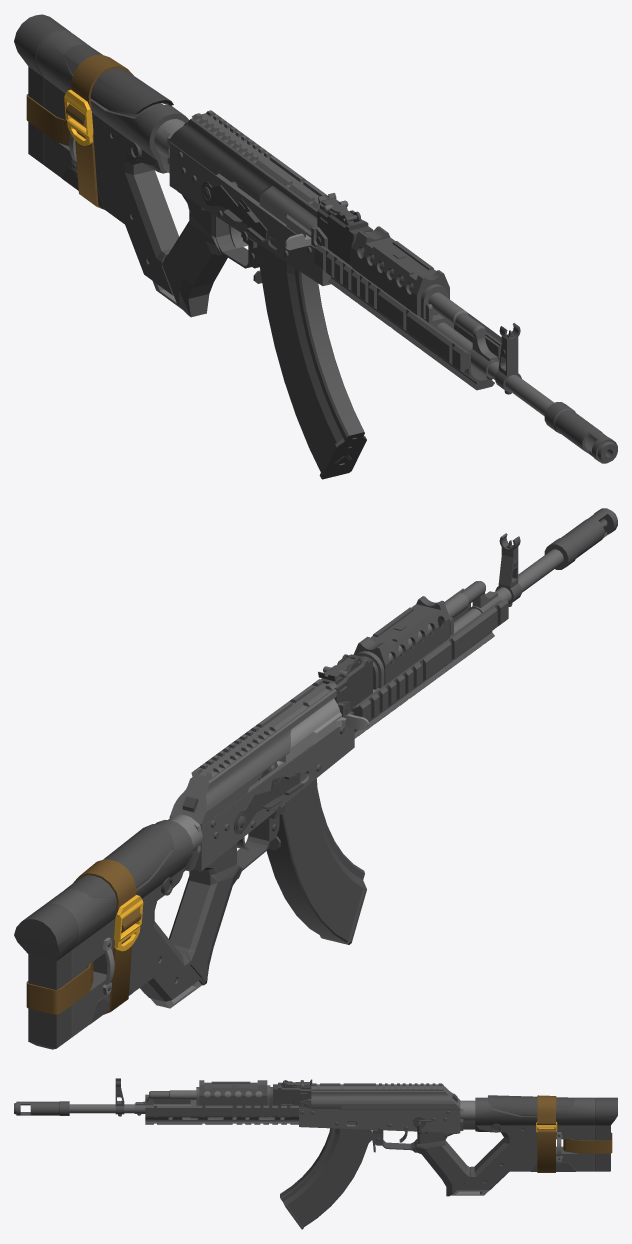
3 renders of one model, top to bottom at view 1: azimuth 30°, elevation 25°; view 2: azimuth 150°, elevation 25°; view 3: azimuth 270°, elevation 25°, orthographic. The views are drawn at different scales.
Visible parts, largest first — view 1: 3DGeom~19, 3DGeom~11, 3DGeom~30, 3DGeom~32, 3DGeom~8, 3DGeom~33, 3DGeom~10, 3DGeom~38, 3DGeom~23, 3DGeom~27, 3DGeom~6, 3DGeom~29 (+10 smaller); view 2: 3DGeom~19, 3DGeom~11, 3DGeom~23, 3DGeom~30, 3DGeom~32, 3DGeom~8, 3DGeom~33, 3DGeom~10, 3DGeom~38, 3DGeom~27, 3DGeom~6, 3DGeom~40 (+9 smaller); view 3: 3DGeom~19, 3DGeom~11, 3DGeom~30, 3DGeom~32, 3DGeom~33, 3DGeom~8, 3DGeom~27, 3DGeom~23, 3DGeom~6, 3DGeom~10, 3DGeom~38, 3DGeom~4 (+7 smaller).
Part boxes in pixels (box(x1,y1,x2,y2)): 3DGeom~19: box(36, 30, 227, 317); 3DGeom~11: box(257, 243, 366, 479); 3DGeom~30: box(314, 244, 501, 390); 3DGeom~32: box(169, 142, 330, 285); 3DGeom~8: box(351, 226, 449, 316); 3DGeom~33: box(169, 119, 317, 222); 3DGeom~10: box(190, 110, 328, 211); 3DGeom~38: box(63, 44, 173, 114); 3DGeom~23: box(14, 14, 262, 283); 3DGeom~27: box(66, 54, 133, 209); 3DGeom~6: box(363, 250, 554, 416); 3DGeom~29: box(544, 402, 617, 463); 3DGeom~19: box(44, 820, 241, 1037); 3DGeom~11: box(258, 769, 366, 944); 3DGeom~23: box(14, 804, 284, 1049); 3DGeom~30: box(352, 588, 508, 738); 3DGeom~32: box(193, 726, 354, 871); 3DGeom~8: box(353, 596, 449, 689); 3DGeom~33: box(169, 691, 336, 826); 3DGeom~10: box(190, 679, 337, 783); 3DGeom~38: box(64, 824, 173, 897); 3DGeom~27: box(73, 859, 141, 1014); 3DGeom~6: box(352, 549, 563, 711); 3DGeom~40: box(267, 698, 369, 771); 3DGeom~19: box(400, 1097, 594, 1196); 3DGeom~11: box(280, 1128, 372, 1229); 3DGeom~30: box(145, 1094, 298, 1124); 3DGeom~32: box(299, 1108, 460, 1133); 3DGeom~33: box(311, 1087, 460, 1109); 3DGeom~8: box(190, 1080, 272, 1118); 3DGeom~27: box(537, 1095, 556, 1172); 3DGeom~23: box(372, 1097, 617, 1171); 3DGeom~6: box(69, 1090, 262, 1113); 3DGeom~10: box(311, 1083, 445, 1091); 3DGeom~38: box(488, 1095, 574, 1115); 3DGeom~4: box(273, 1080, 338, 1109).
Bounding box in the file's own units: 12.33 × 46.83 × 175.
